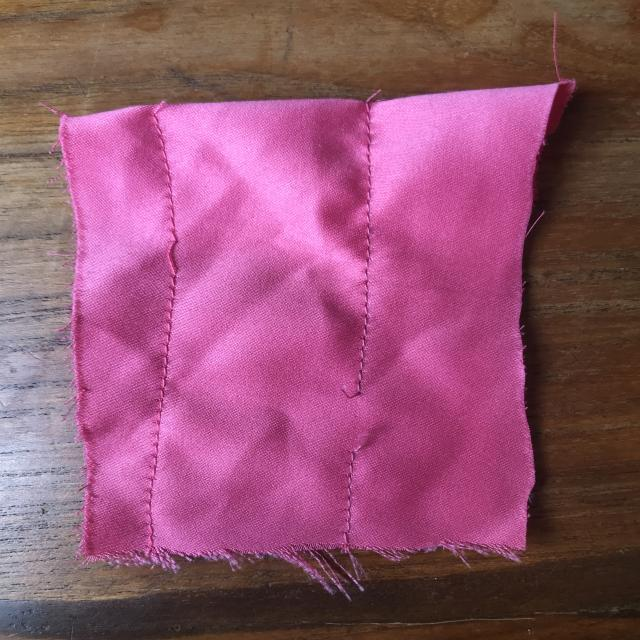broken: (325, 364, 388, 474)
good: (354, 206, 400, 313)
skip: (148, 222, 204, 292)
